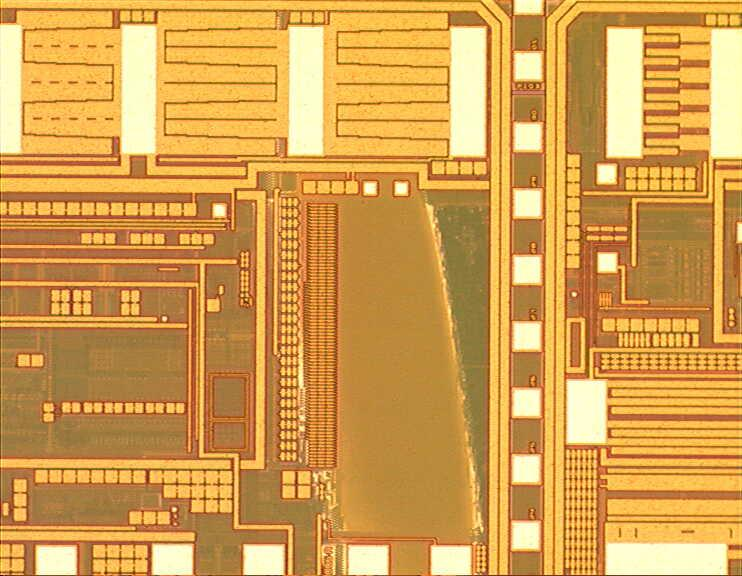BLOCK ETCH: (255, 162, 491, 576)
